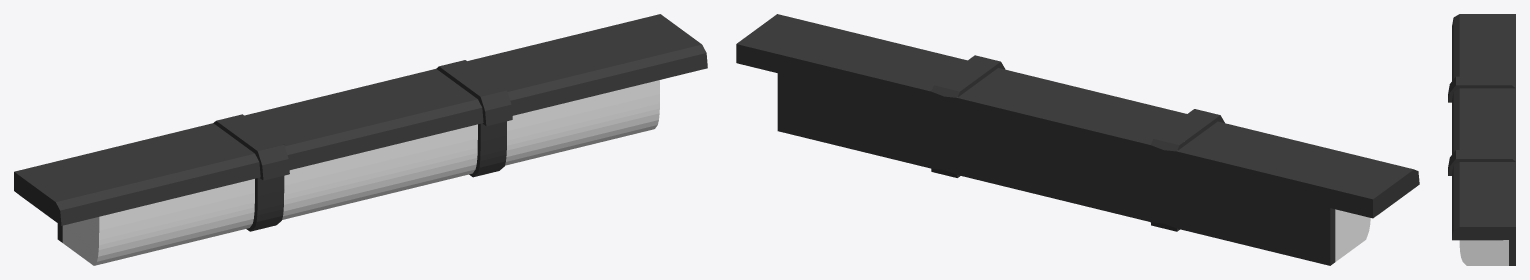
The model's file is lamp.fbx.
The picture shows the model from 3 angles, left to right: view 1: azimuth 30°, elevation 25°; view 2: azimuth 150°, elevation 25°; view 3: azimuth 270°, elevation 25°; orthographic projection. The views are drawn at different scales.
Visible parts, largest first — view 1: Cube; view 2: Cube; view 3: Cube.
Part boxes in pixels (bbox=[...]): Cube: bbox=[14, 14, 707, 265]; Cube: bbox=[736, 14, 1419, 265]; Cube: bbox=[1448, 14, 1515, 265].
Size of the model in its own units: 110 by 14.07 by 14.85.
